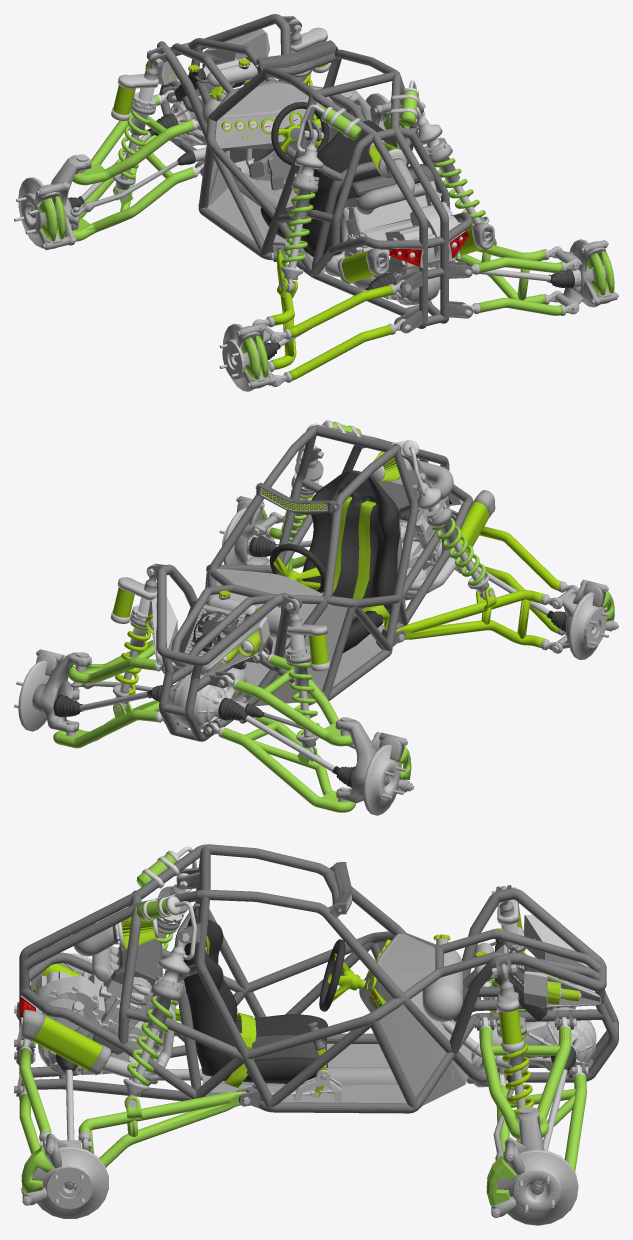
Rendered from 4x4_buggy_utv__off-road_cross_kart.glb.
The picture shows the model from 3 angles, top to bottom: view 1: azimuth 30°, elevation 25°; view 2: azimuth 150°, elevation 25°; view 3: azimuth 270°, elevation 25°; orthographic projection. The views are drawn at different scales.
Visible parts, largest first — view 1: New_Game_Object (×48), New_Game_Object_Clone__Clone__Clone_, New_Game_Object_Clone__Clone_, New_Game_Object_Clone_; view 2: New_Game_Object (×46), New_Game_Object_Clone__Clone__Clone_ (×2), New_Game_Object_Clone__Clone_ (×2), New_Game_Object_Clone_; view 3: New_Game_Object (×49), New_Game_Object_Clone__Clone__Clone_, New_Game_Object_Clone_ (×2), New_Game_Object_Clone__Clone_.
Part boxes in pixels (x1=…): New_Game_Object (×48): x1=18, y1=14, x2=614, y2=391; New_Game_Object_Clone__Clone__Clone_: x1=72, y1=135, x2=194, y2=241; New_Game_Object_Clone__Clone_: x1=72, y1=95, x2=194, y2=185; New_Game_Object_Clone_: x1=202, y1=28, x2=269, y2=60; New_Game_Object (×46): x1=18, y1=425, x2=606, y2=815; New_Game_Object_Clone__Clone__Clone_ (×2): x1=68, y1=640, x2=355, y2=812; New_Game_Object_Clone__Clone_ (×2): x1=53, y1=654, x2=353, y2=748; New_Game_Object_Clone_: x1=148, y1=596, x2=177, y2=665; New_Game_Object (×49): x1=16, y1=844, x2=618, y2=1225; New_Game_Object_Clone__Clone__Clone_: x1=480, y1=1026, x2=571, y2=1139; New_Game_Object_Clone_ (×2): x1=524, y1=971, x2=600, y2=1007; New_Game_Object_Clone__Clone_: x1=496, y1=1074, x2=586, y2=1171.
Size of the model in its own units: 124 by 72.7 by 150.
